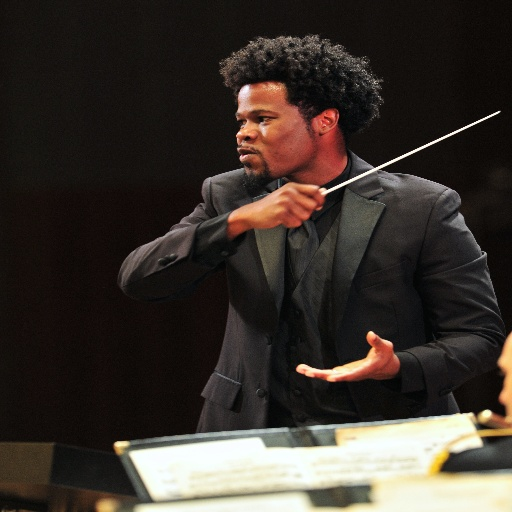hand: (296, 330, 400, 382), (244, 181, 328, 229)
